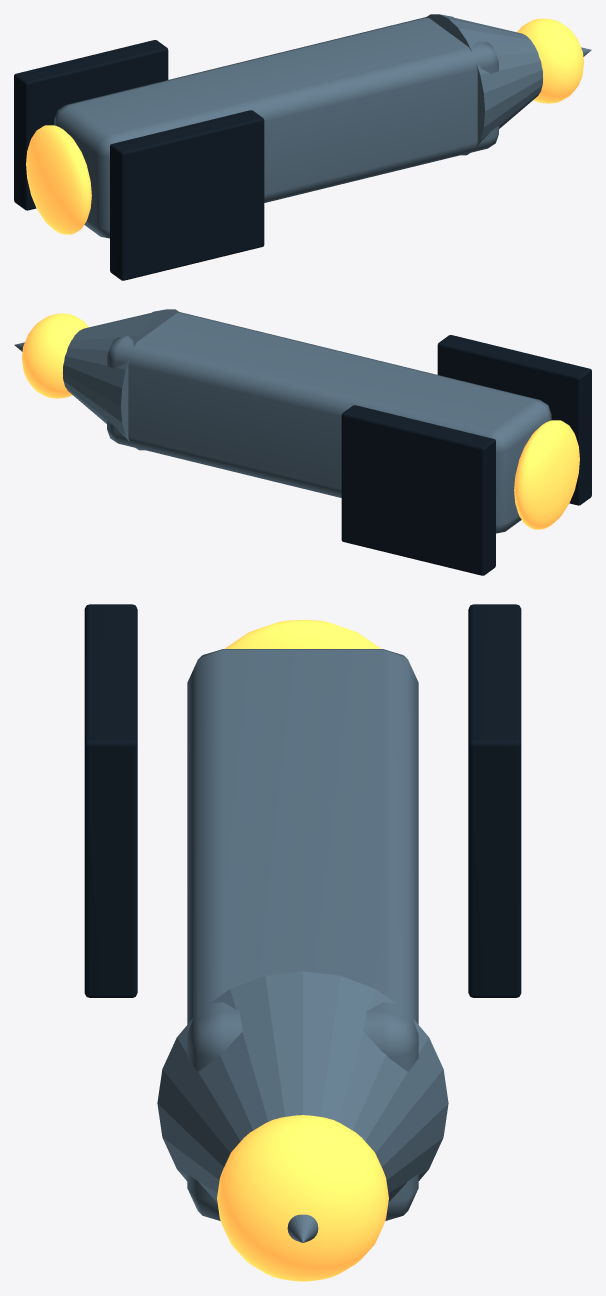
Rendered from missile.glb.
The picture shows the model from 3 angles, top to bottom: view 1: azimuth 30°, elevation 25°; view 2: azimuth 150°, elevation 25°; view 3: azimuth 270°, elevation 25°; orthographic projection. The views are drawn at different scales.
Visible parts, largest first — view 1: Cube; view 2: Cube; view 3: Cube.
Boxes of the visible parts, x1,y1,x2,y2 form: Cube: (14,14,591,280); Cube: (14,309,591,575); Cube: (84,604,521,1281).
Bounding box in the file's own units: 1.92 × 0.44 × 0.66.
